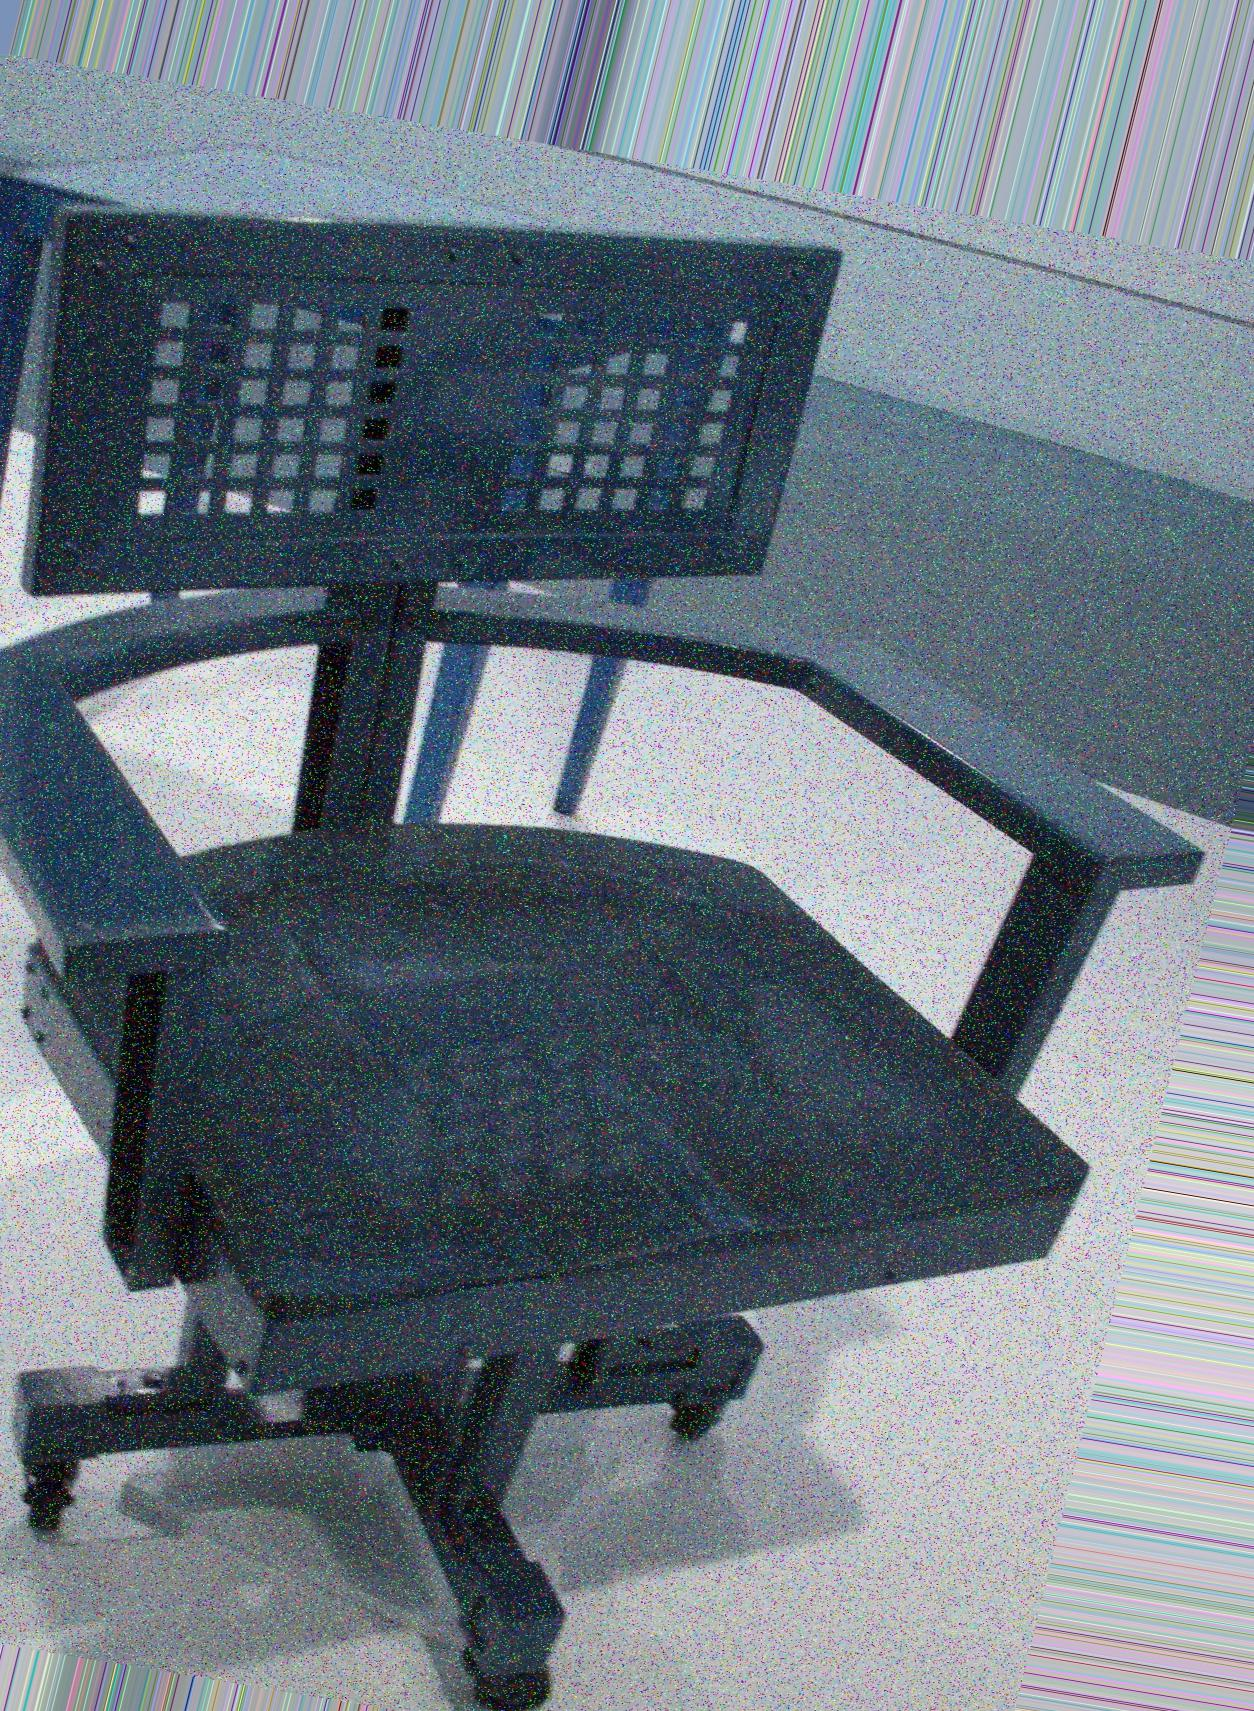chair: (1, 201, 1211, 1711)
